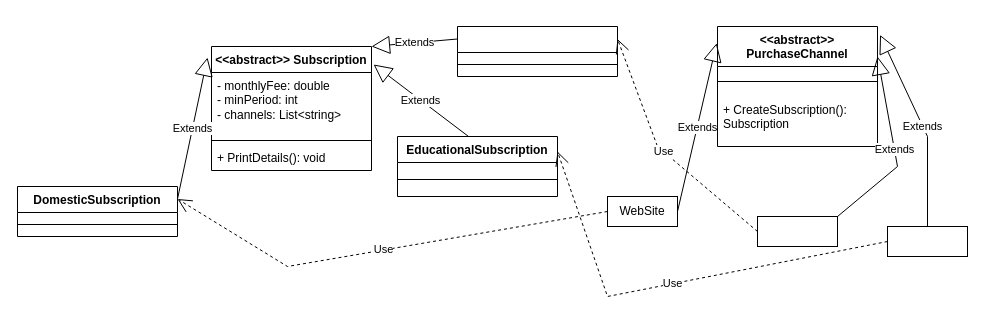
This 985x328 diagram has some shape labels left out. The shapes that lost their labels are listed below. From the top down, each one's centre as x and y in pixels, then its label:
At pixel 537 51: "PremiumSubscription".
At pixel 797 231: "ManagerCall".
At pixel 927 241: "MobileApp".
